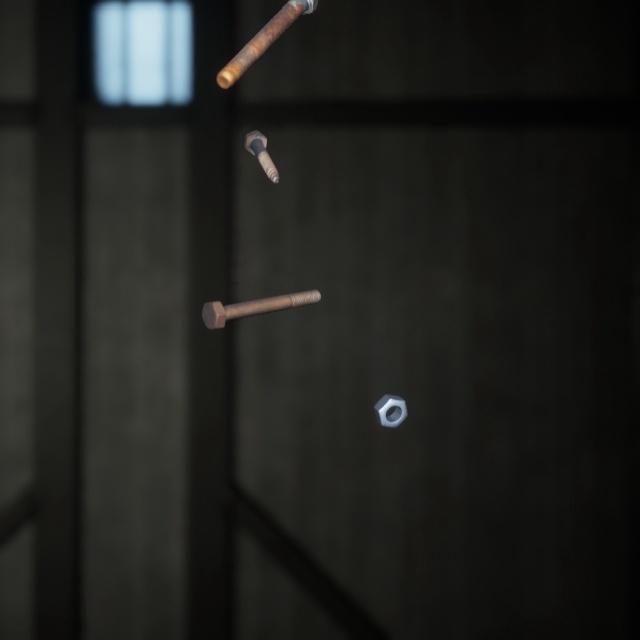bolt: (212, 0, 320, 83), (197, 267, 325, 315), (239, 112, 284, 173)
nut: (369, 371, 412, 413)
